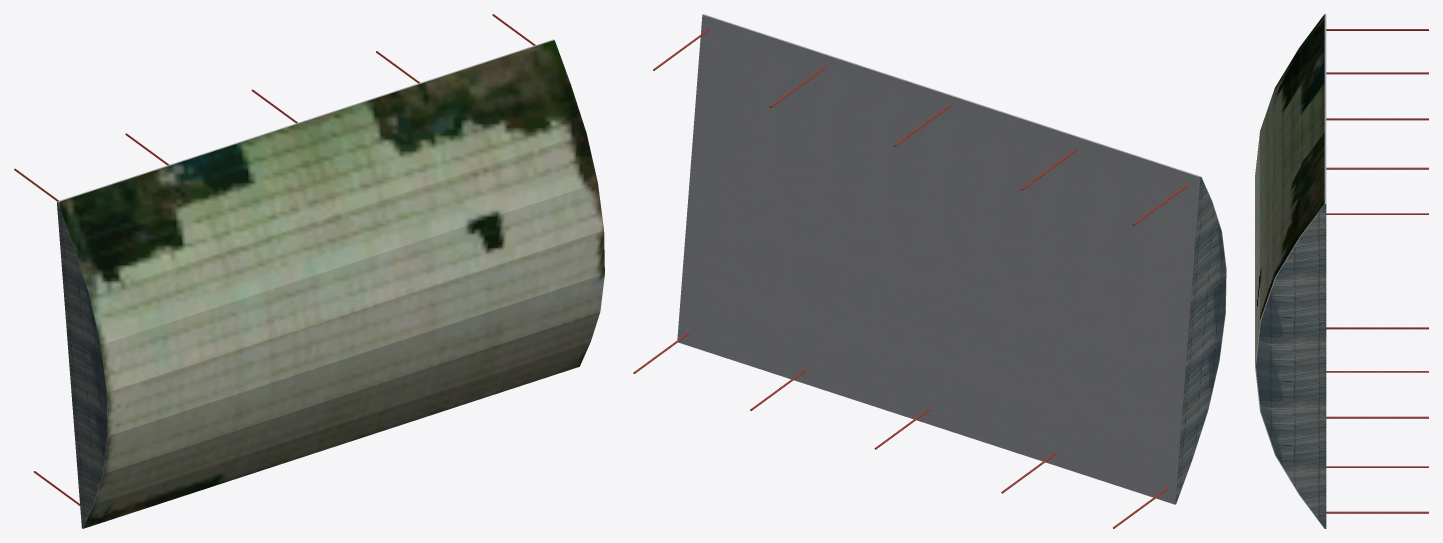
3 views of the same model, side by side, from view 1: azimuth 30°, elevation 25°; view 2: azimuth 150°, elevation 25°; view 3: azimuth 270°, elevation 25° (orthographic). The views are drawn at different scales.
Visible parts, largest first — view 1: Group_MatrixTransform_i95016_Geometry_1, Group_MatrixTransform_i95016_Geometry_0, Group_MatrixTransform_i95016_Geometry_3, Group_MatrixTransform_i95016_Geometry_2; view 2: Group_MatrixTransform_i95016_Geometry_3, Group_MatrixTransform_i95016_Geometry_0, Group_MatrixTransform_i95016_Geometry_2; view 3: Group_MatrixTransform_i95016_Geometry_0, Group_MatrixTransform_i95016_Geometry_1, Group_MatrixTransform_i95016_Geometry_2, Group_MatrixTransform_i95016_Geometry_3.
Boxes of the visible parts, <box> form: Group_MatrixTransform_i95016_Geometry_1: <box>58,40,604,528</box>; Group_MatrixTransform_i95016_Geometry_0: <box>57,202,107,528</box>; Group_MatrixTransform_i95016_Geometry_3: <box>57,39,553,528</box>; Group_MatrixTransform_i95016_Geometry_2: <box>14,14,535,505</box>; Group_MatrixTransform_i95016_Geometry_3: <box>677,14,1226,504</box>; Group_MatrixTransform_i95016_Geometry_0: <box>1175,177,1226,504</box>; Group_MatrixTransform_i95016_Geometry_2: <box>633,29,1188,528</box>; Group_MatrixTransform_i95016_Geometry_0: <box>1256,204,1326,528</box>; Group_MatrixTransform_i95016_Geometry_1: <box>1255,14,1324,364</box>; Group_MatrixTransform_i95016_Geometry_2: <box>1326,29,1428,513</box>; Group_MatrixTransform_i95016_Geometry_3: <box>1255,14,1326,528</box>.
Size of the model in its own units: 30.31 by 20.74 by 9.29.
Materials: 4 (4 with a texture image).
